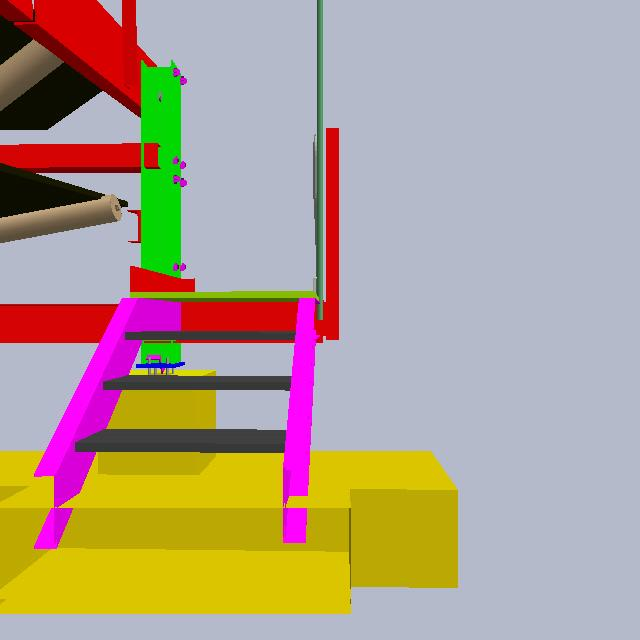Poste: (311, 1, 327, 322)
Soporte: (298, 123, 349, 349)
